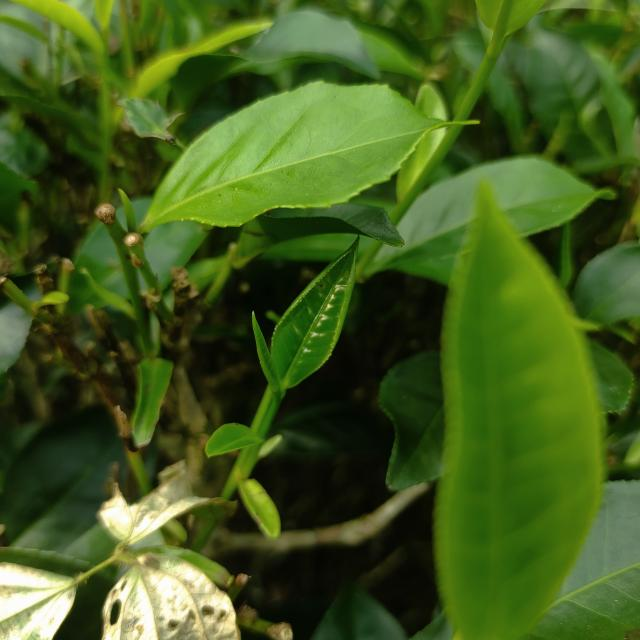unopened_leaf: (239, 302, 293, 402)
